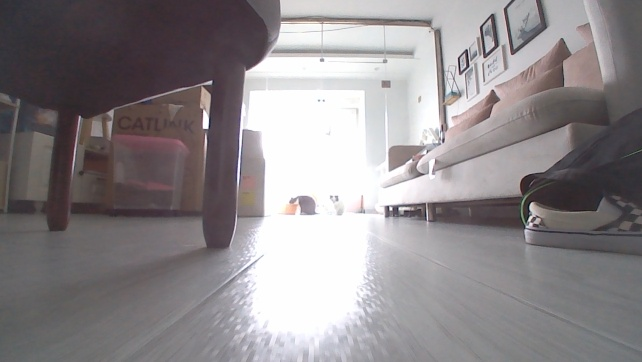shoe: (518, 189, 641, 255)
sofa: (373, 20, 607, 223)
